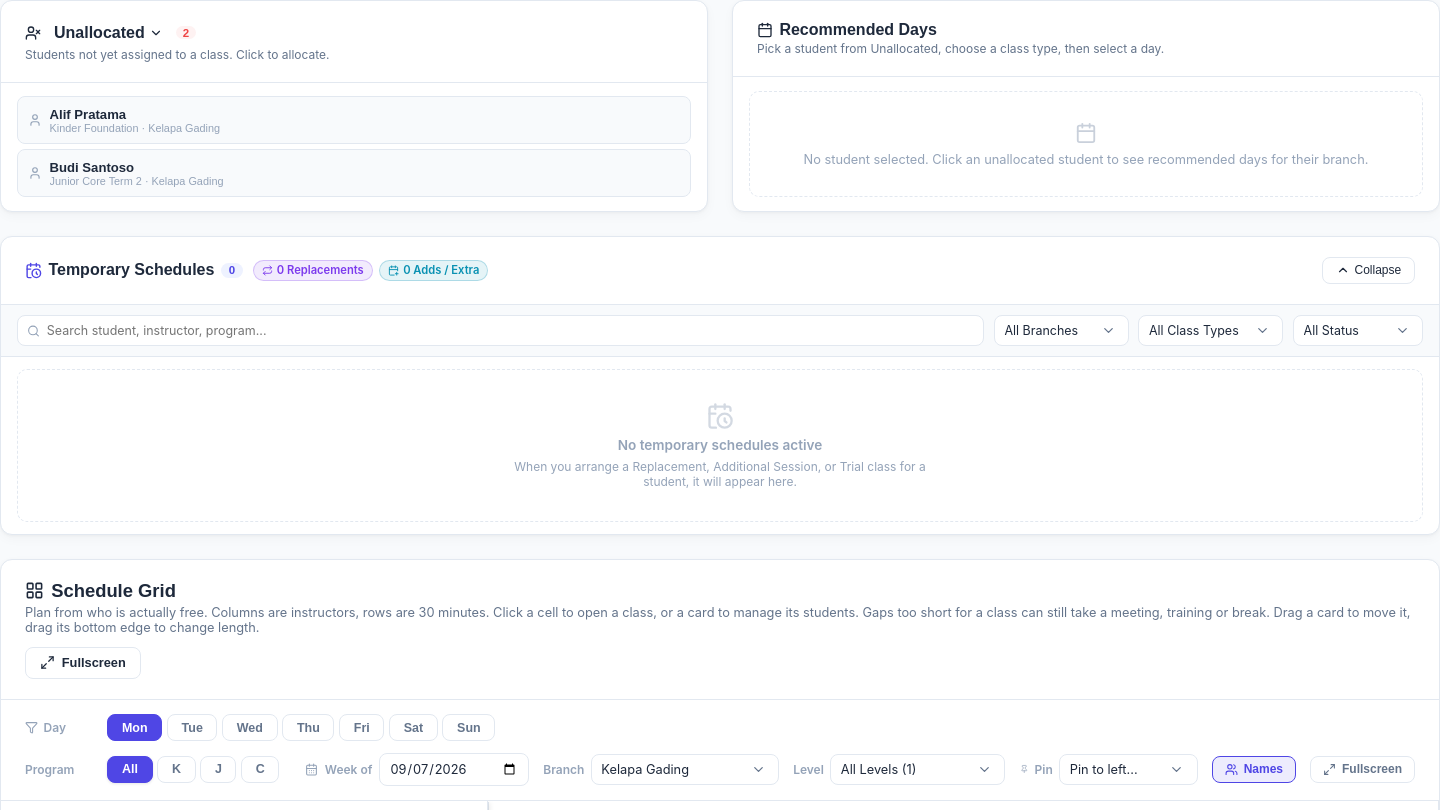
NewSchedulePage - Program and Term Locking › correctly maps and locks Junior Core Term 2 student
Step 1. Click the text "Budi Santoso" → click(92, 167), box [50,160,134,175]
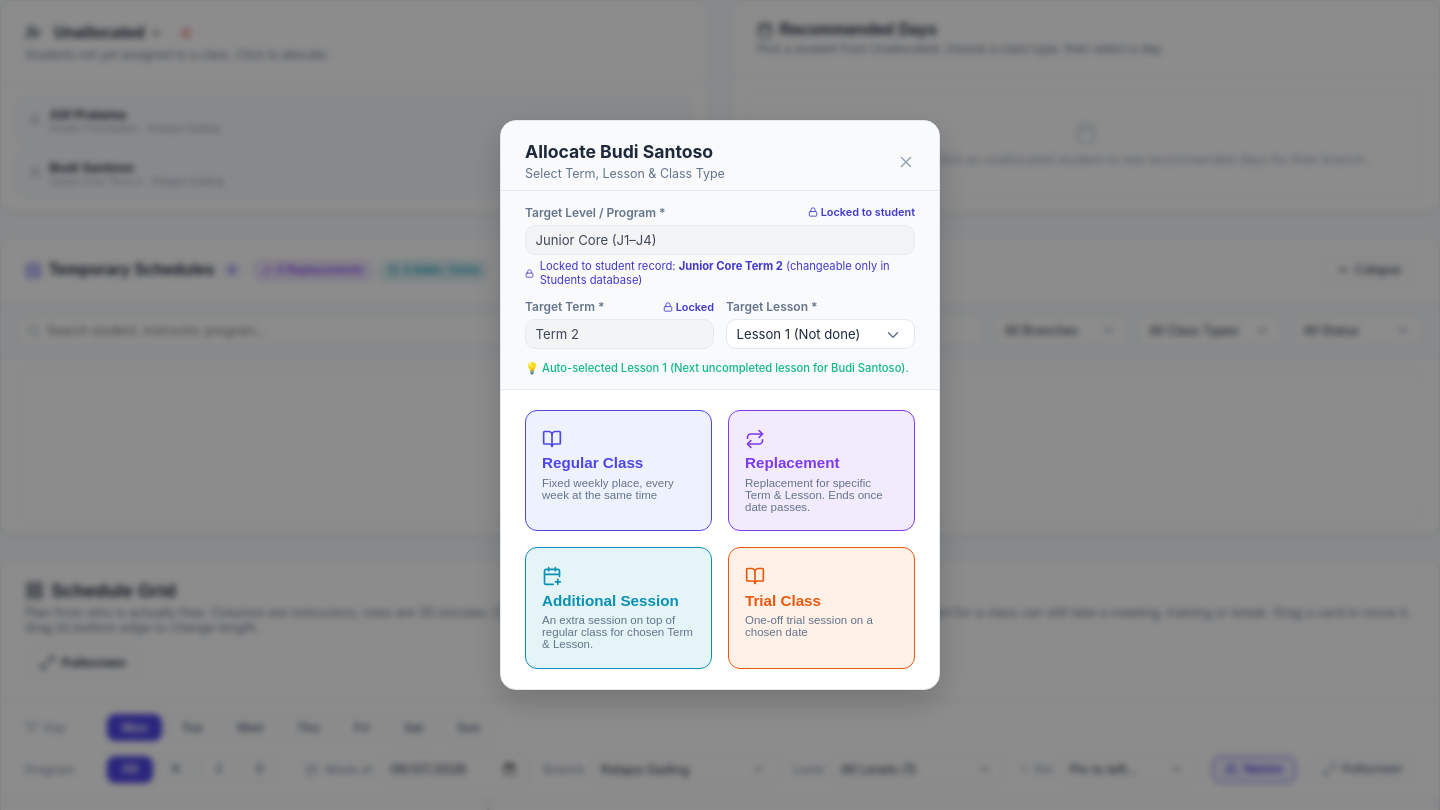
Step 2. Click the button "Regular Class" → click(618, 471), box [525,410,712,531]
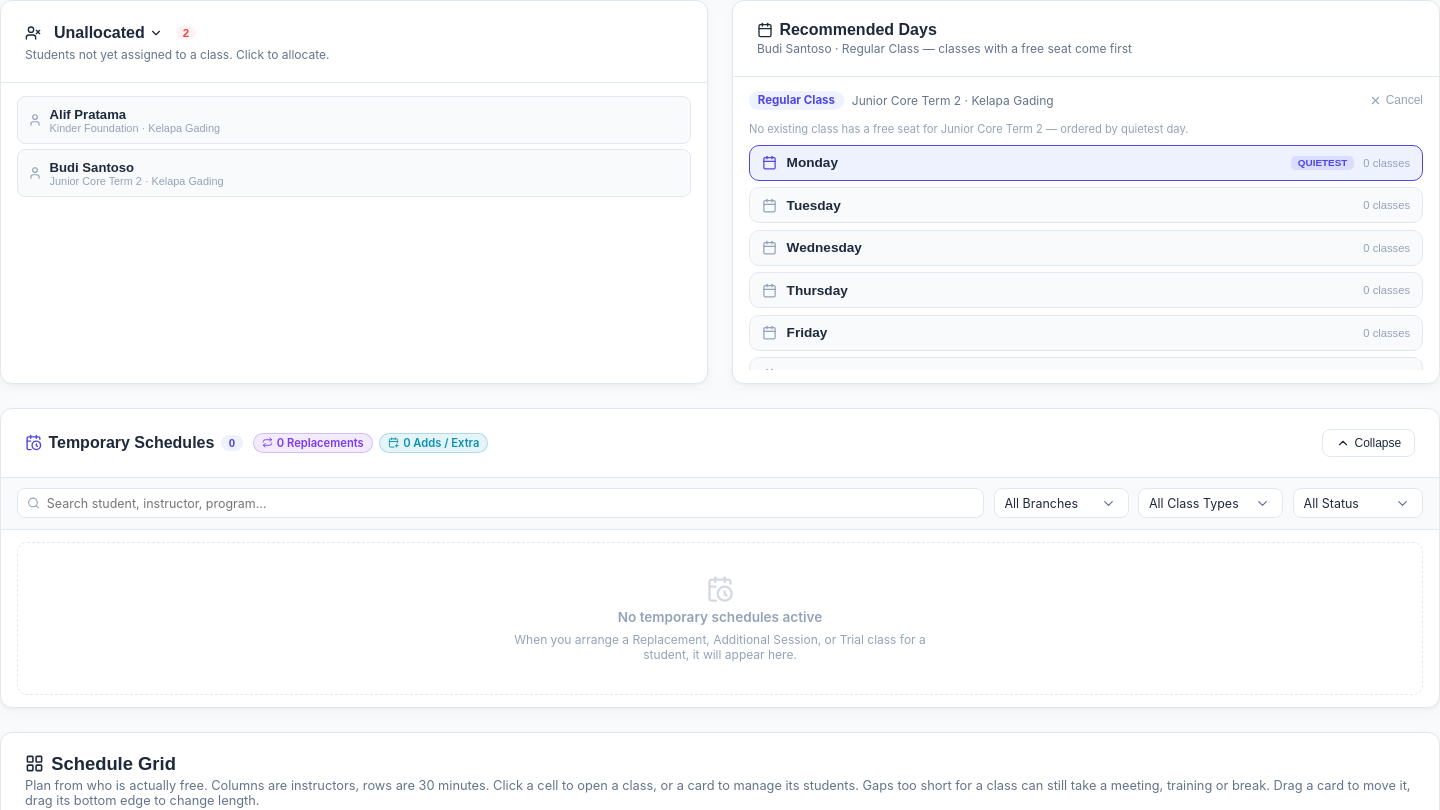
Step 3. Click the text "Monday" → click(812, 163), box [787,155,838,170]
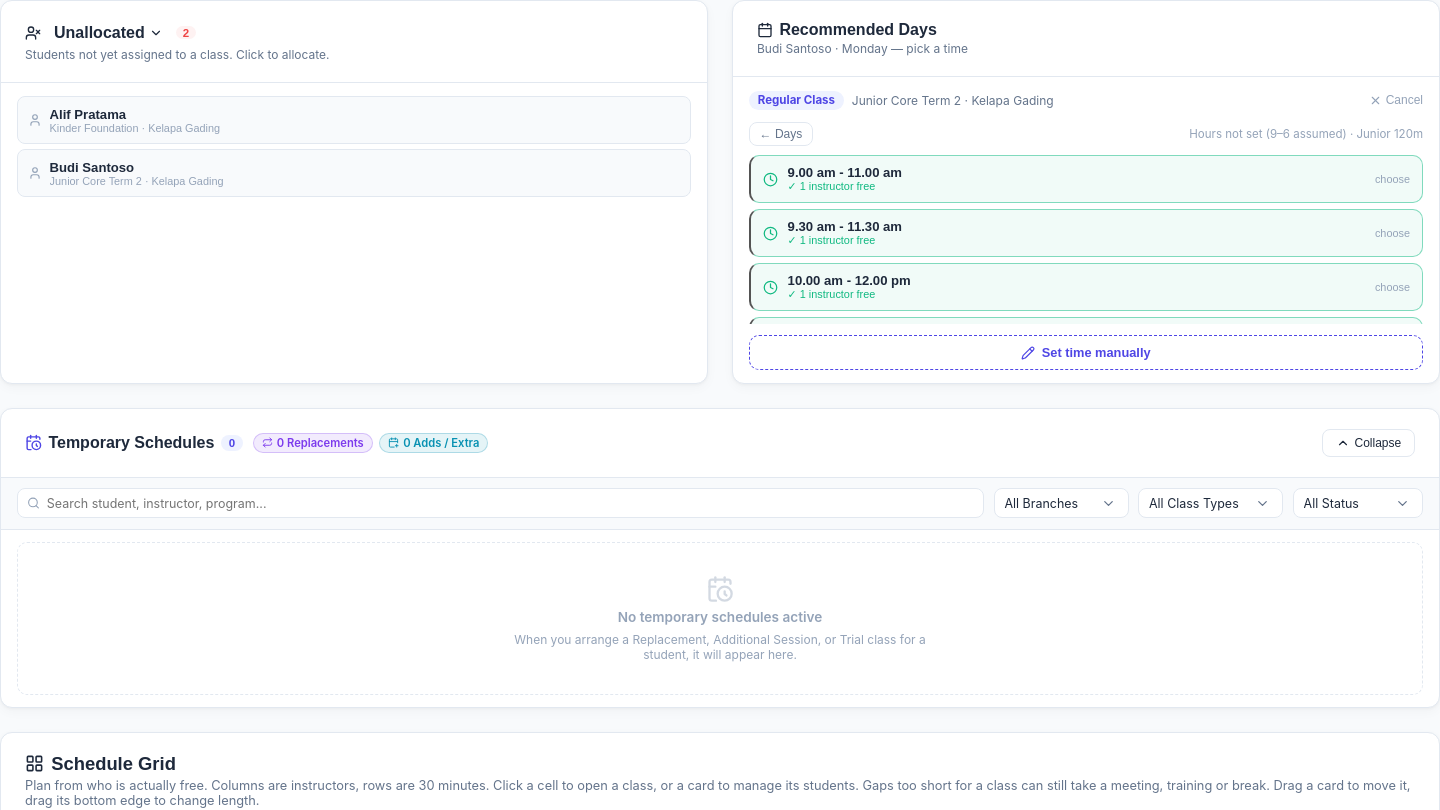
Step 4. Click the button "Set time manually" → click(1086, 352), box [749,335,1423,370]
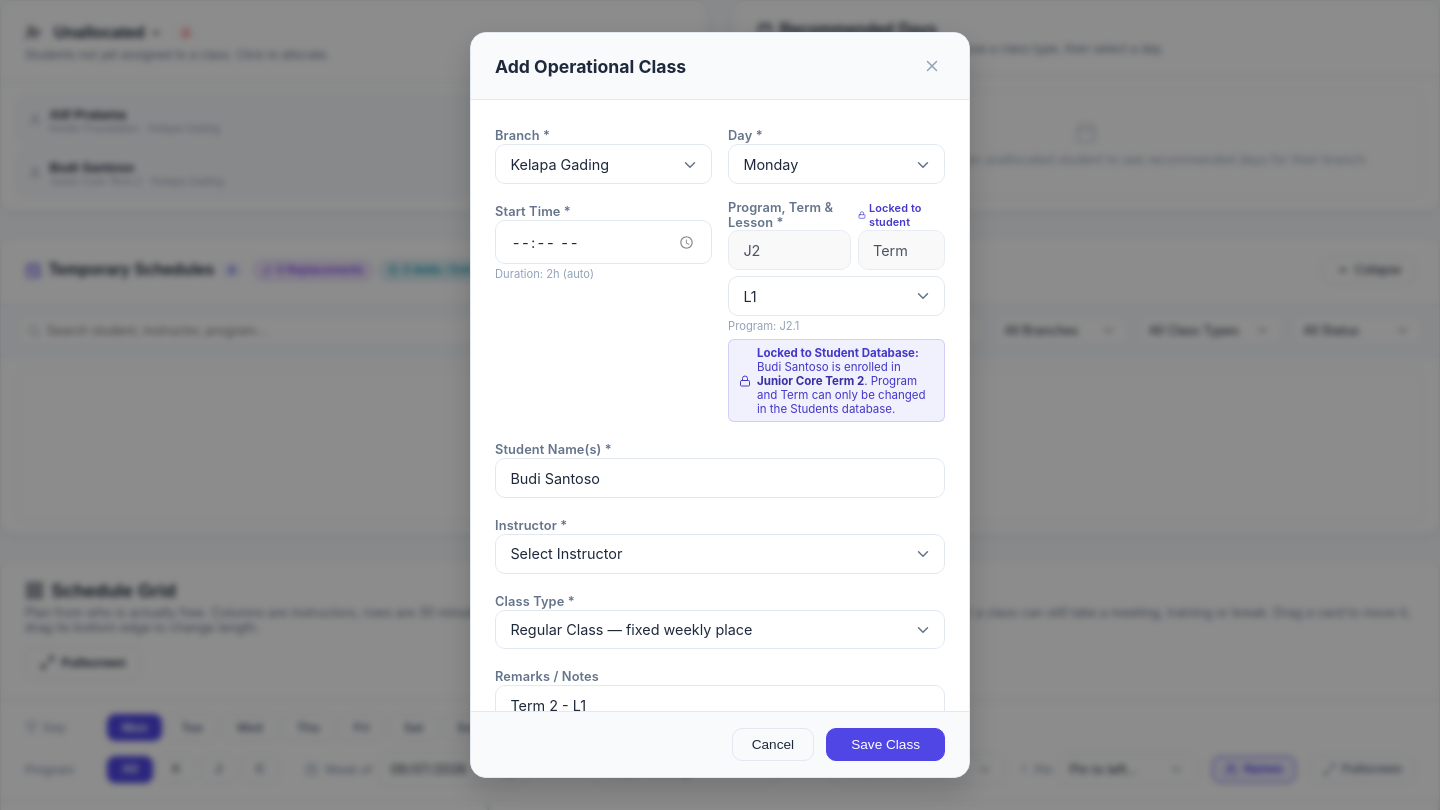
Result: the text "Locked to Student Database:" is shown at [757,346,919,360]
Result: the dropdown titled "Program is locked to student's enrolled level in database" is disabled at [728,230,851,270]
Result: the dropdown titled "Program is locked to student's enrolled level in database" shows "J2" at [728,230,851,270]
